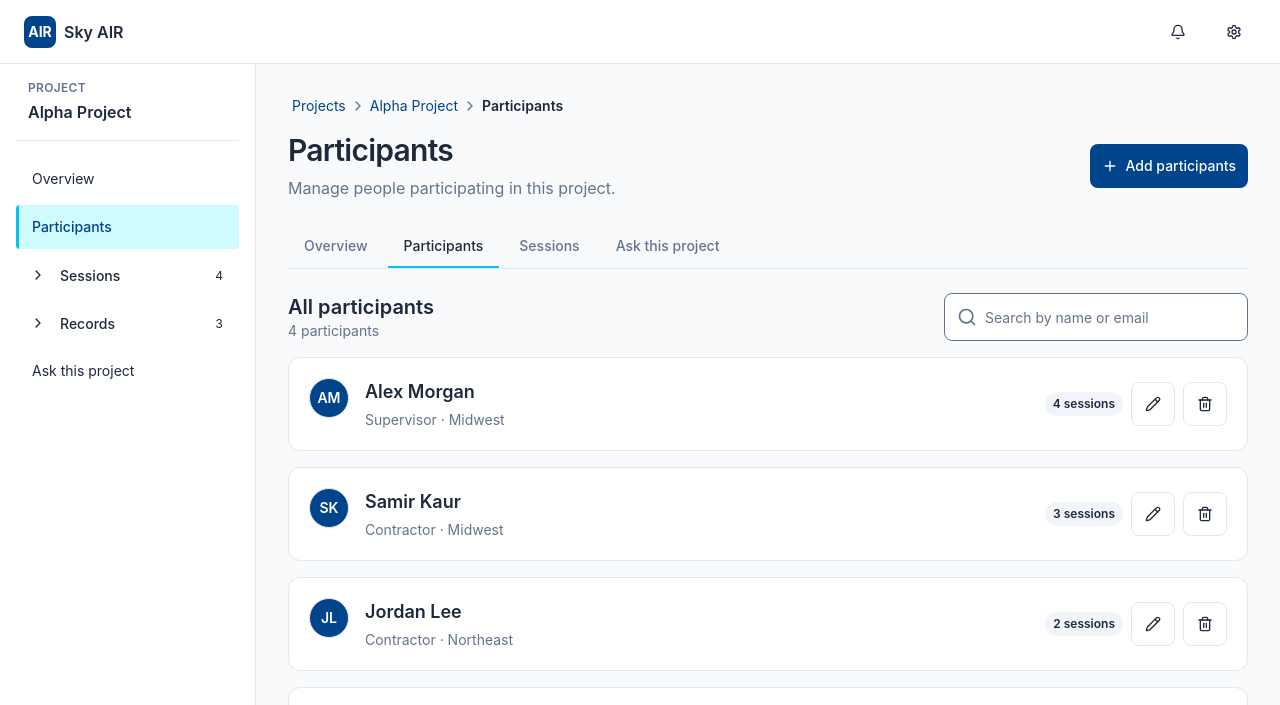
Test: application router foundation › loads the Participant collection and navigates from its direct edit action
The image size is (1280, 705).
Check: the heading "Participants" is shown, box x1=288 y1=132 x2=453 y2=168
Check: the link named "Open Alex Morgan" is shown, box x1=289 y1=358 x2=1247 y2=450
Click the button named "Edit Alex Morgan" at x=1153, y=404, box x1=1131 y1=382 x2=1175 y2=426
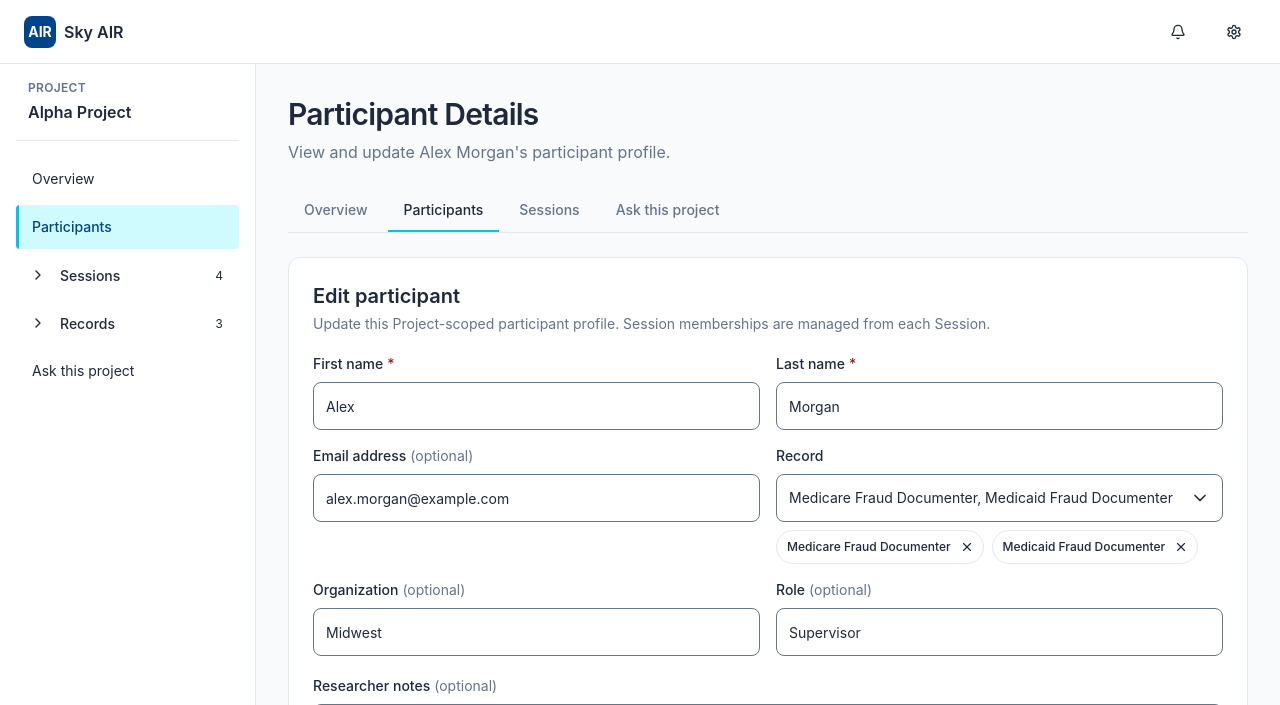
Check: the heading "Participant Details" is shown, box x1=288 y1=96 x2=539 y2=132
